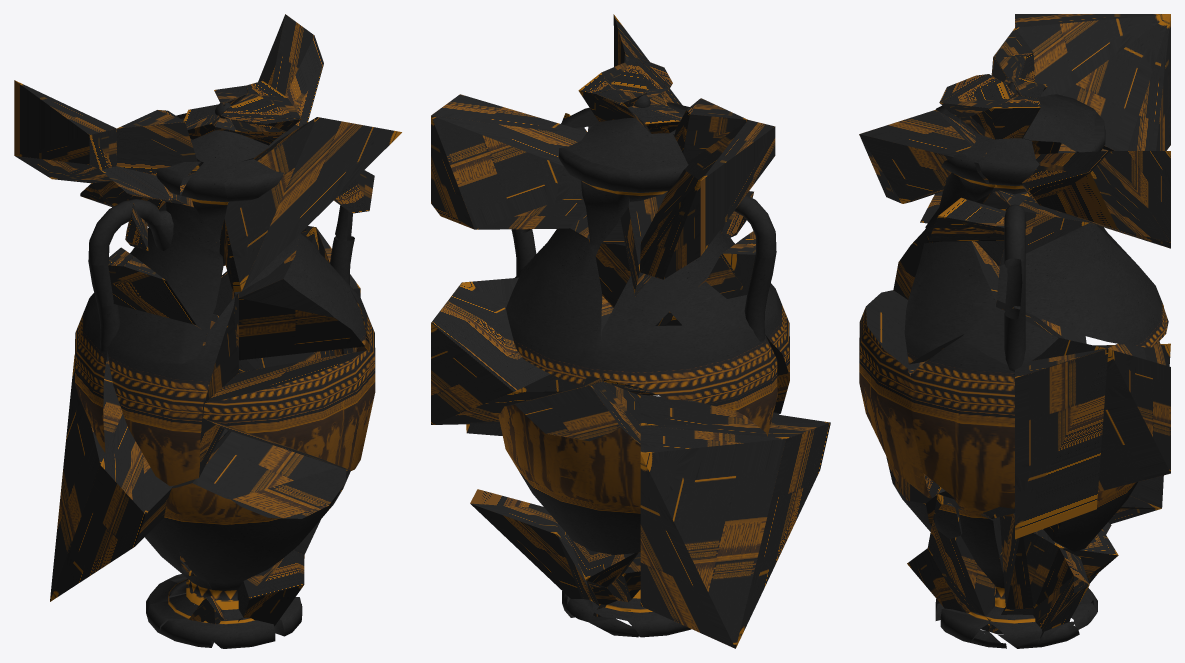
Rendered from amphora.fbx.
3 views of the same model, side by side, from view 1: azimuth 30°, elevation 25°; view 2: azimuth 150°, elevation 25°; view 3: azimuth 270°, elevation 25° (orthographic). The views are drawn at different scales.
Parts seen in each view (by area): view 1: Vase_Amphora_Mesh_cell.060, Vase_Amphora_Mesh_cell.025, Vase_Amphora_Mesh_cell.095, Vase_Amphora_Mesh_cell.045, Vase_Amphora_Mesh_cell.074, Vase_Amphora_Mesh_cell.078, Vase_Amphora_Mesh_cell.011, Vase_Amphora_Mesh_cell.082, Vase_Amphora_Mesh_cell.076, Vase_Amphora_Mesh_cell.052, Vase_Amphora_Mesh_cell.009, Vase_Amphora_Mesh_cell.048 (+32 smaller); view 2: Vase_Amphora_Mesh_cell.025, Vase_Amphora_Mesh_cell.063, Vase_Amphora_Mesh_cell.076, Vase_Amphora_Mesh_cell.035, Vase_Amphora_Mesh_cell.012, Vase_Amphora_Mesh_cell.023, Vase_Amphora_Mesh_cell.011, Vase_Amphora_Mesh_cell.054, Vase_Amphora_Mesh_cell.082, Vase_Amphora_Mesh_cell.065, Vase_Amphora_Mesh_cell.009, Vase_Amphora_Mesh_cell.048 (+22 smaller); view 3: Vase_Amphora_Mesh_cell.011, Vase_Amphora_Mesh_cell.044, Vase_Amphora_Mesh_cell, Vase_Amphora_Mesh_cell.023, Vase_Amphora_Mesh_cell.076, Vase_Amphora_Mesh_cell.012, Vase_Amphora_Mesh_cell.095, Vase_Amphora_Mesh_cell.074, Vase_Amphora_Mesh_cell.045, Vase_Amphora_Mesh_cell.038, Vase_Amphora_Mesh_cell.030, Vase_Amphora_Mesh_cell.063 (+30 smaller).
Boxes of the visible parts, bbox=[...] form: Vase_Amphora_Mesh_cell.060: bbox=[164, 430, 346, 582]; Vase_Amphora_Mesh_cell.025: bbox=[50, 354, 228, 601]; Vase_Amphora_Mesh_cell.095: bbox=[203, 350, 374, 470]; Vase_Amphora_Mesh_cell.045: bbox=[220, 117, 401, 292]; Vase_Amphora_Mesh_cell.074: bbox=[232, 233, 365, 360]; Vase_Amphora_Mesh_cell.078: bbox=[107, 313, 224, 485]; Vase_Amphora_Mesh_cell.011: bbox=[14, 80, 116, 183]; Vase_Amphora_Mesh_cell.082: bbox=[130, 227, 219, 332]; Vase_Amphora_Mesh_cell.076: bbox=[258, 14, 323, 147]; Vase_Amphora_Mesh_cell.052: bbox=[108, 305, 206, 364]; Vase_Amphora_Mesh_cell.009: bbox=[117, 110, 199, 175]; Vase_Amphora_Mesh_cell.048: bbox=[108, 247, 195, 324]; Vase_Amphora_Mesh_cell.025: bbox=[640, 394, 830, 648]; Vase_Amphora_Mesh_cell.063: bbox=[498, 381, 640, 554]; Vase_Amphora_Mesh_cell.076: bbox=[431, 94, 587, 229]; Vase_Amphora_Mesh_cell.035: bbox=[575, 320, 777, 436]; Vase_Amphora_Mesh_cell.012: bbox=[431, 277, 640, 424]; Vase_Amphora_Mesh_cell.023: bbox=[506, 228, 602, 387]; Vase_Amphora_Mesh_cell.011: bbox=[639, 120, 775, 279]; Vase_Amphora_Mesh_cell.054: bbox=[470, 489, 594, 615]; Vase_Amphora_Mesh_cell.082: bbox=[601, 231, 734, 343]; Vase_Amphora_Mesh_cell.065: bbox=[559, 147, 630, 255]; Vase_Amphora_Mesh_cell.009: bbox=[674, 98, 747, 162]; Vase_Amphora_Mesh_cell.048: bbox=[706, 231, 755, 298]; Vase_Amphora_Mesh_cell.011: bbox=[1015, 14, 1170, 150]; Vase_Amphora_Mesh_cell.044: bbox=[909, 337, 1014, 516]; Vase_Amphora_Mesh_cell: bbox=[1015, 348, 1108, 539]; Vase_Amphora_Mesh_cell.023: bbox=[996, 223, 1168, 347]; Vase_Amphora_Mesh_cell.076: bbox=[1022, 151, 1170, 248]; Vase_Amphora_Mesh_cell.012: bbox=[982, 337, 1170, 518]; Vase_Amphora_Mesh_cell.095: bbox=[859, 290, 941, 498]; Vase_Amphora_Mesh_cell.074: bbox=[904, 241, 1013, 364]; Vase_Amphora_Mesh_cell.045: bbox=[859, 110, 987, 203]; Vase_Amphora_Mesh_cell.038: bbox=[927, 494, 1003, 631]; Vase_Amphora_Mesh_cell.030: bbox=[1000, 513, 1058, 608]; Vase_Amphora_Mesh_cell.063: bbox=[1043, 341, 1166, 551].
Size of the model in its own units: 10626 by 19269 by 10223.
